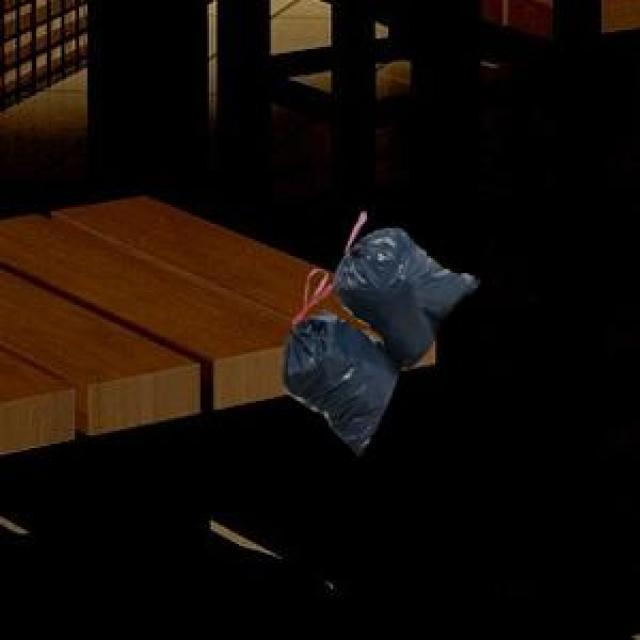miscellaneous trash: (280, 209, 476, 450)
